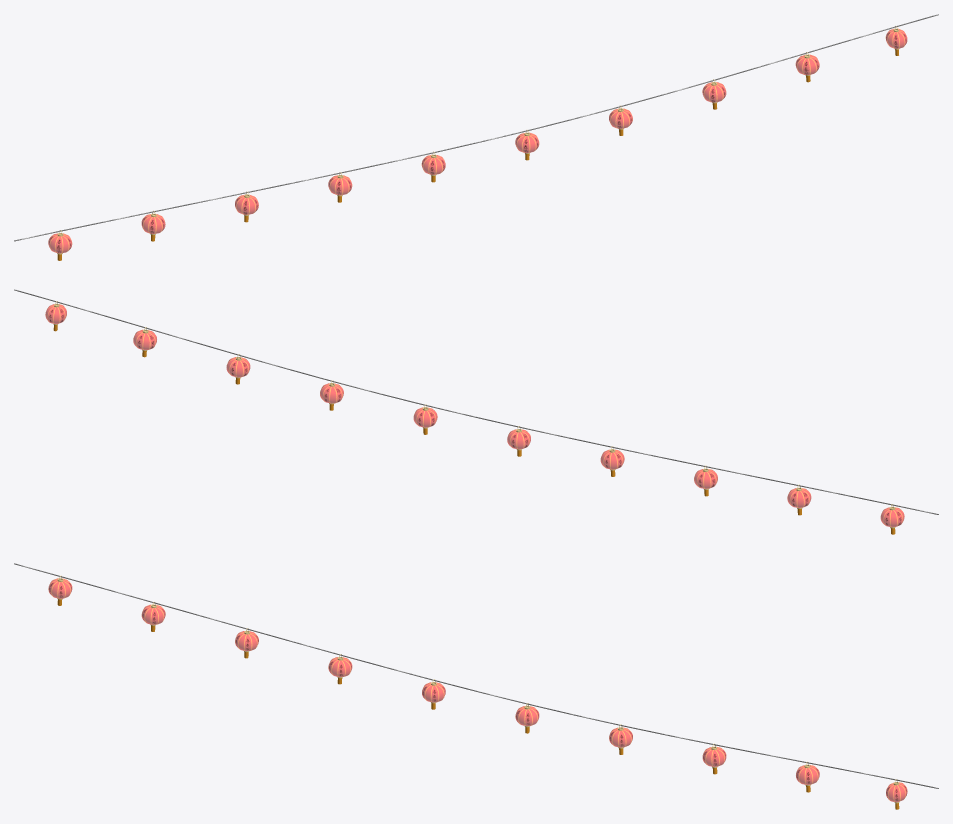
File: SM_lamp_spline_Splines_15.fbx
The picture shows the model from 3 angles, top to bottom: view 1: azimuth 30°, elevation 25°; view 2: azimuth 150°, elevation 25°; view 3: azimuth 330°, elevation 25°; orthographic projection.
Parts seen in each view (by area): view 1: SM_lamp_spline_Splines_15; view 2: SM_lamp_spline_Splines_15; view 3: SM_lamp_spline_Splines_15.
Part boxes in pixels (<box>): SM_lamp_spline_Splines_15: <box>14,14,938,260</box>; SM_lamp_spline_Splines_15: <box>14,289,938,534</box>; SM_lamp_spline_Splines_15: <box>14,563,938,809</box>.
Bounding box in the file's own units: 2476 × 56.63 × 114.
